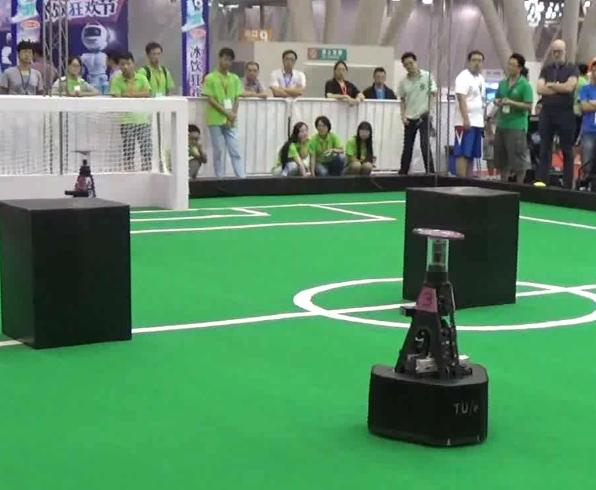robot: (349, 218, 498, 452)
